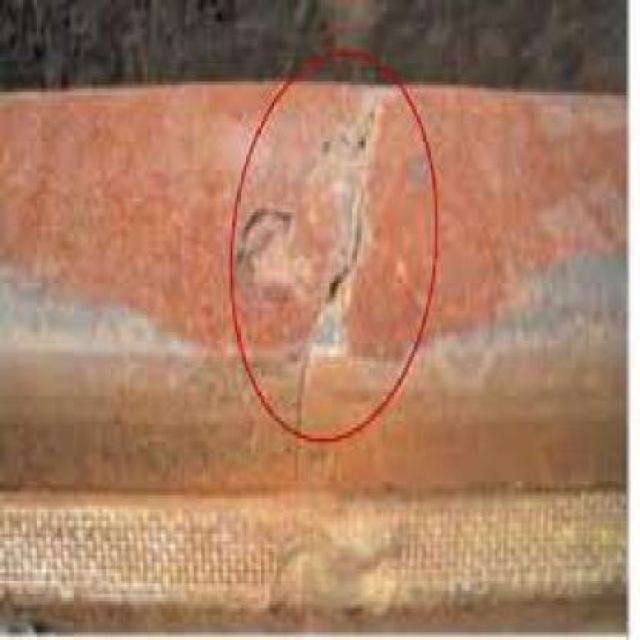defective: (72, 51, 628, 556)
